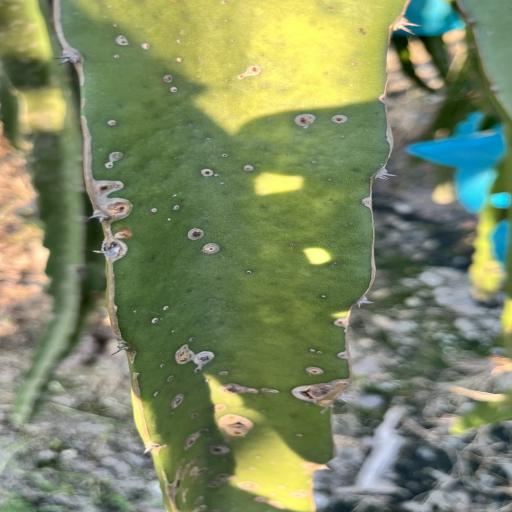stemcanker: (105, 16, 186, 100), (175, 134, 263, 188), (200, 0, 255, 58), (126, 302, 192, 334), (143, 199, 189, 222), (154, 354, 176, 392), (302, 343, 326, 359), (316, 291, 337, 304), (214, 366, 234, 379), (106, 120, 128, 130), (198, 378, 216, 388), (242, 266, 254, 279), (146, 390, 164, 398), (186, 334, 200, 344), (291, 431, 306, 440), (190, 412, 204, 420), (258, 408, 269, 415), (261, 84, 269, 92), (308, 160, 319, 165)
